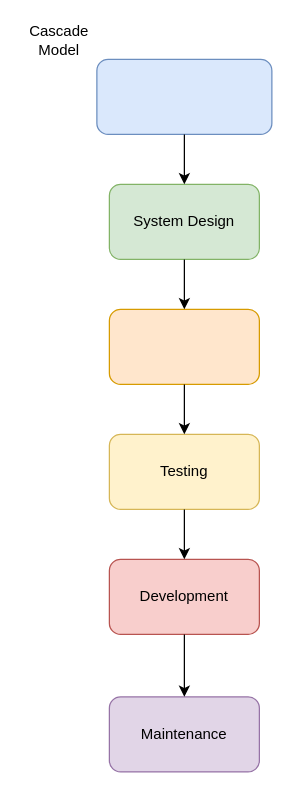
The diagram is 294 pixels wide and 794 high, and some of its shapes have lost their labels. The centre of each missing label's shape, as x and y in pixels:
"Implementation" goes at [183,346].
"Requirement Analysis" goes at [184,96].
